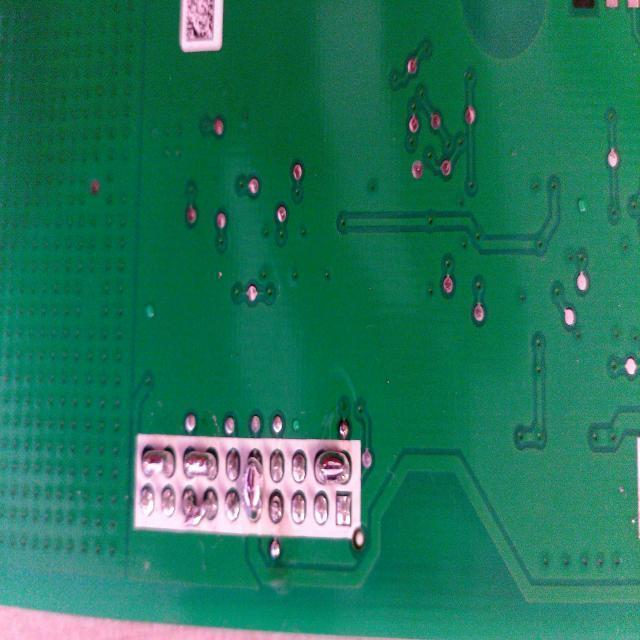Soldering bridge: (242, 446, 266, 528), (177, 486, 219, 530), (180, 440, 220, 484), (311, 447, 353, 487), (140, 440, 174, 480)
